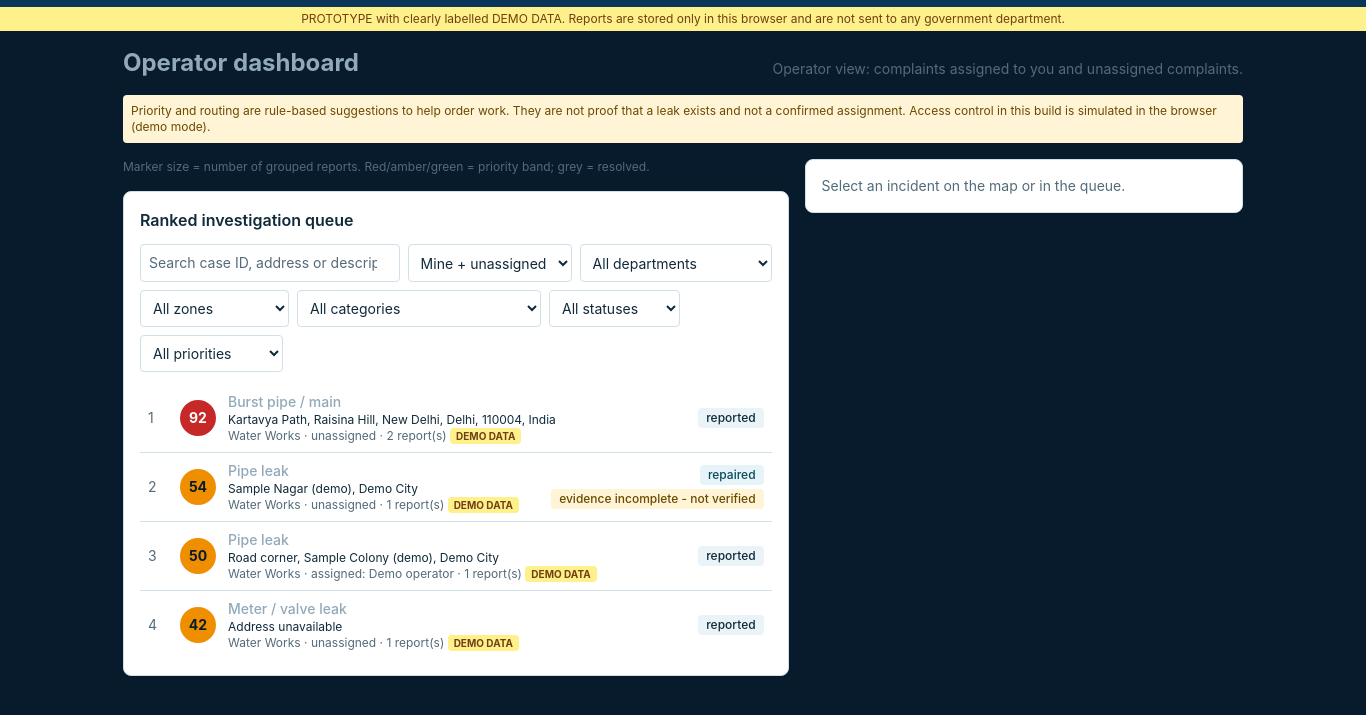
it: 8. operators work only on assigned complaints (UI level) › operator sees only unassigned + own cases; must claim before changing status
The width and height of the screenshot is (1366, 715).
Expected: the text with test id "dash-scope-note" shows "Operator view", [773,60,1243,77]
Note: open an unassigned incident
Click the button with test id "queue-address": point(456, 418) [140,384,772,452]
(page scrolled)
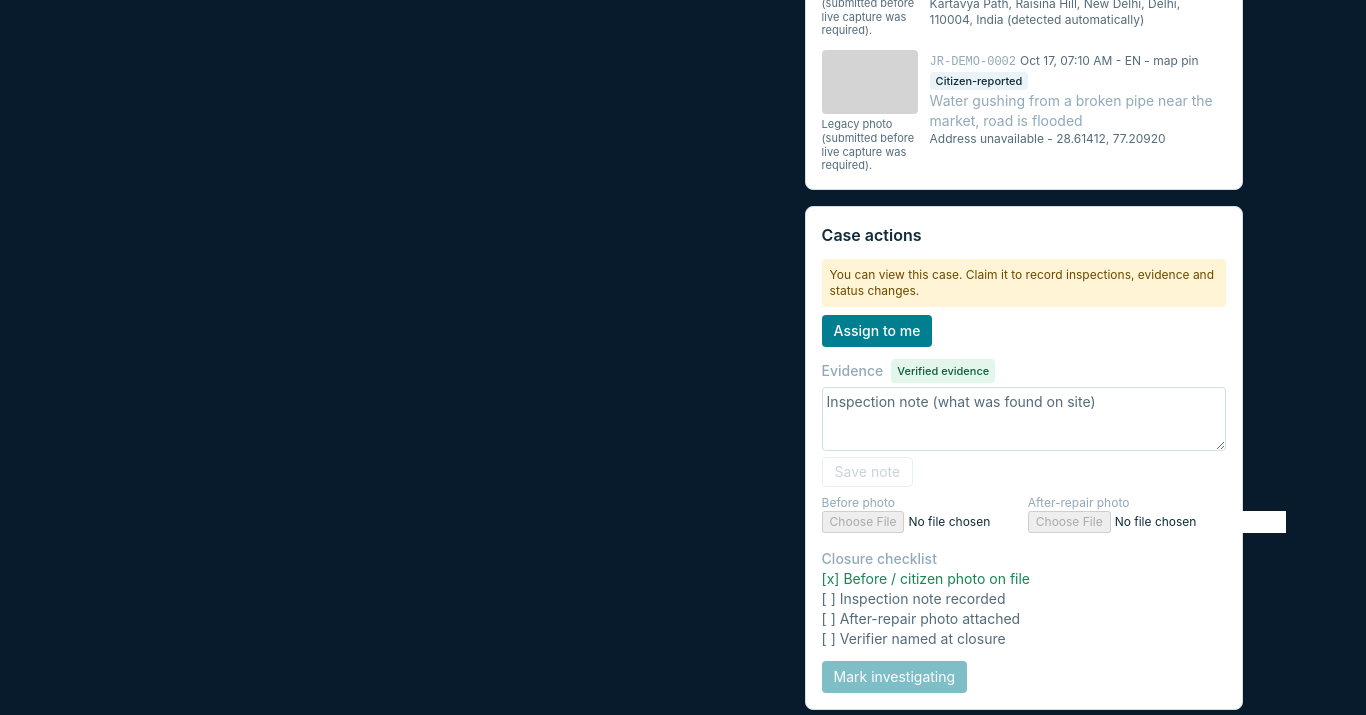
Now the button "Mark investigating" is disabled, box [822,661,967,693]
Click the button "Assign to me": point(877, 331) [822,315,932,347]
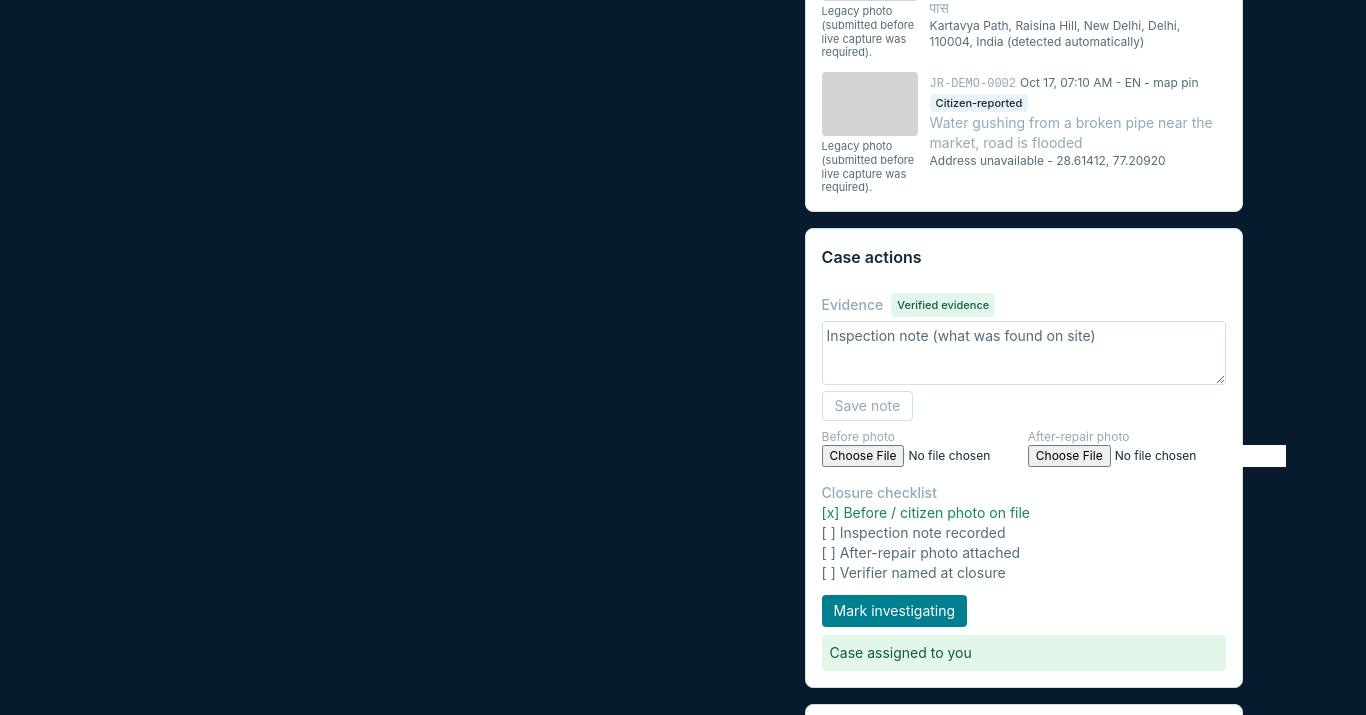
Now the button "Mark investigating" is shown
Click the button "Mark investigating": point(894, 611) [822,595,967,627]
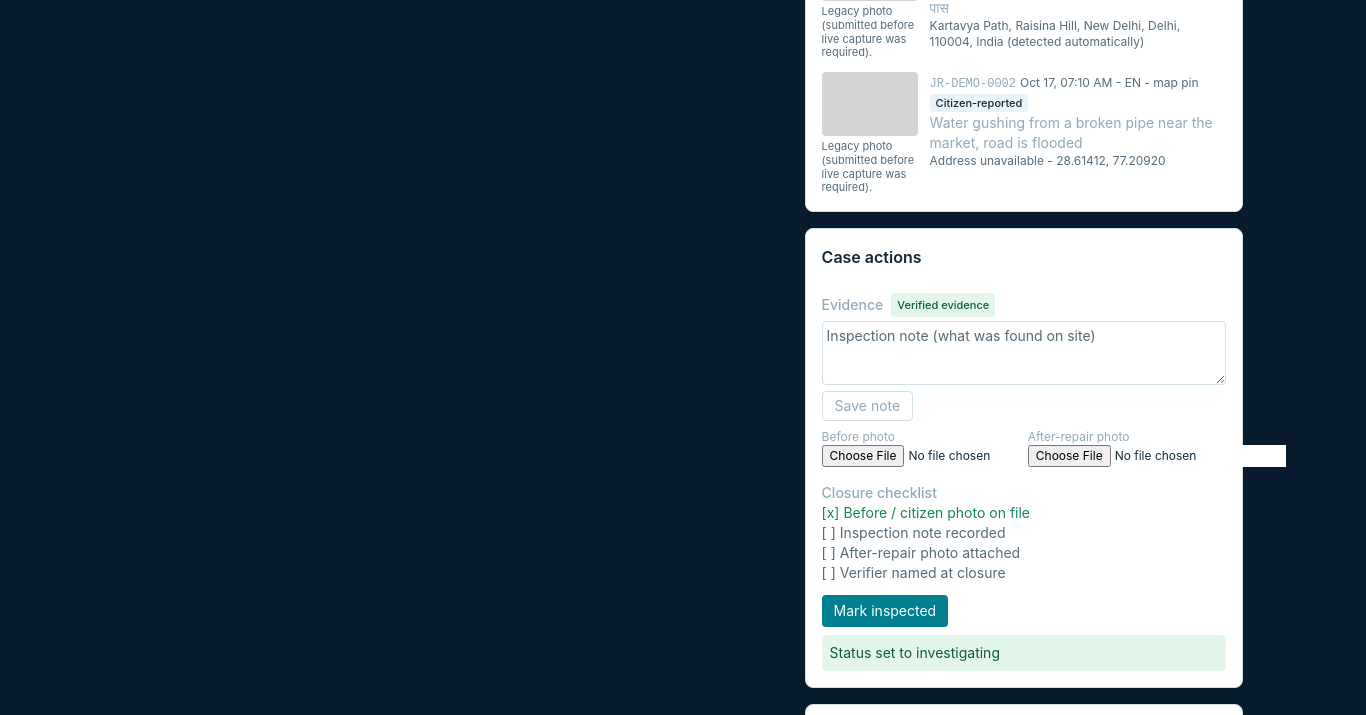
Now the message reads "Status set to investigating", box [830,644,1000,661]
